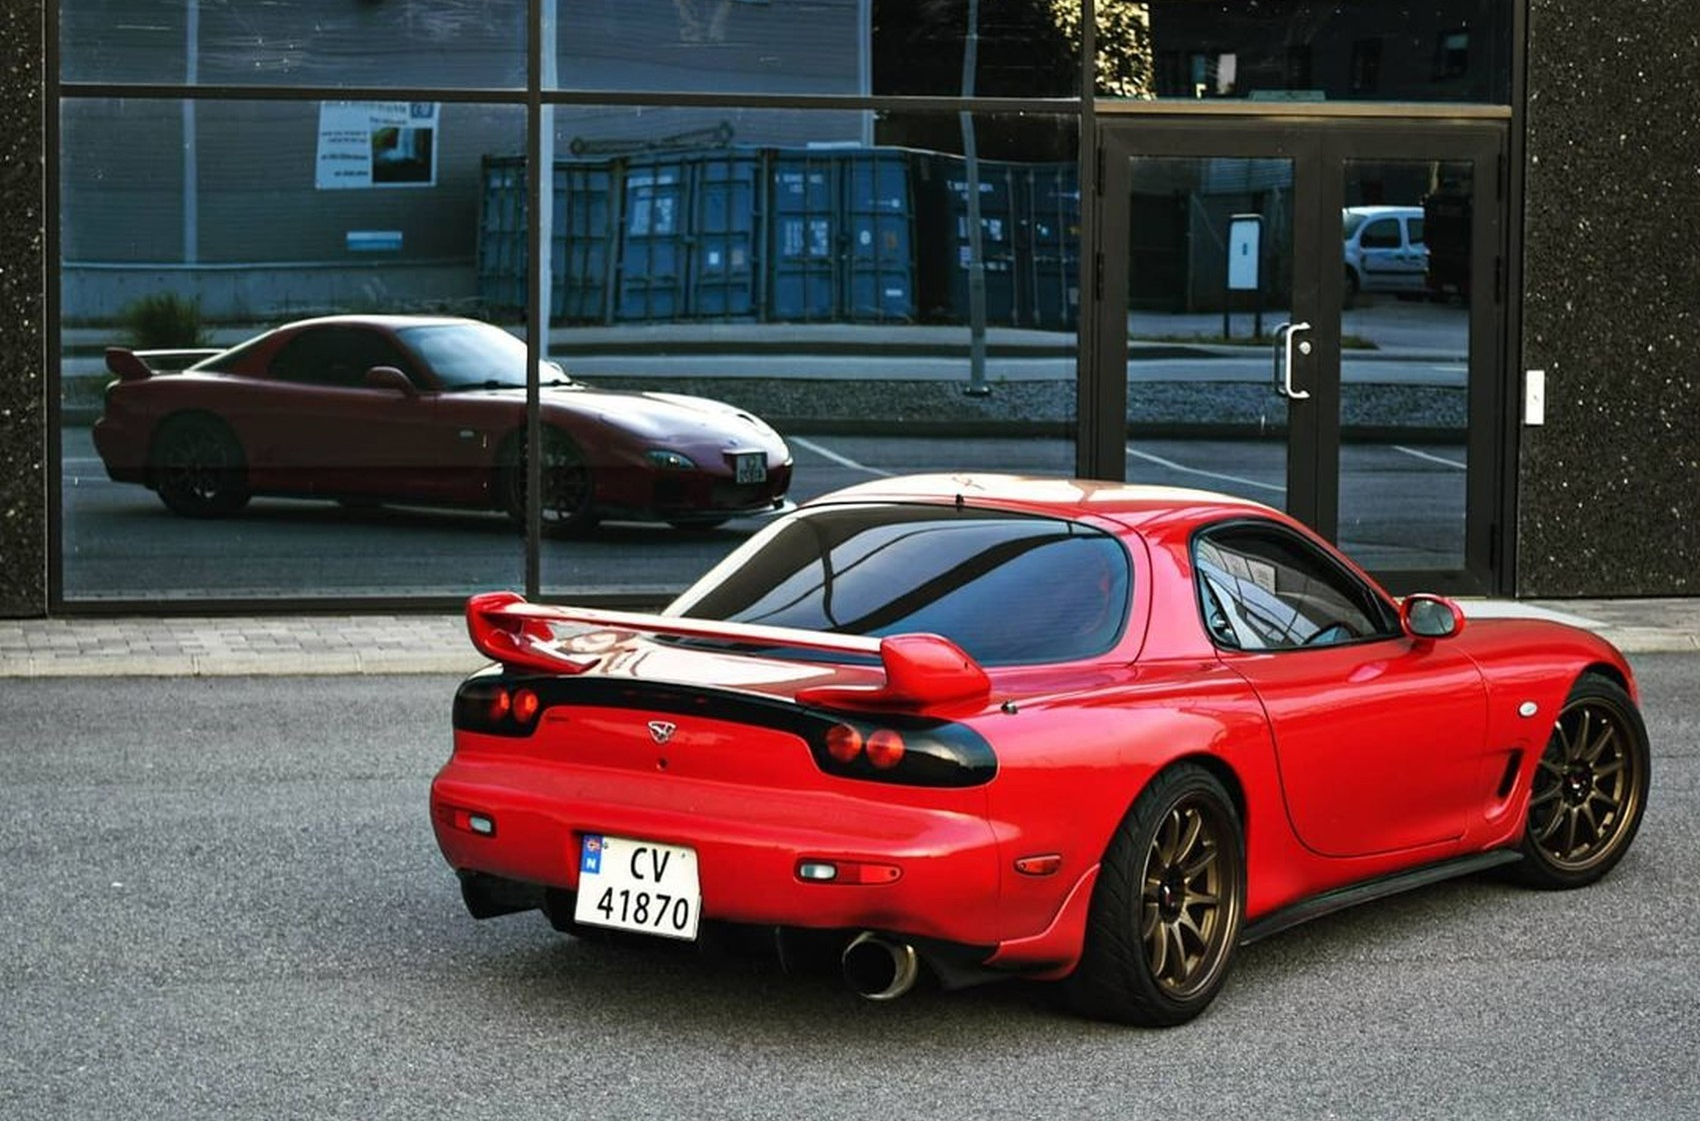plate: (571, 832, 704, 946)
